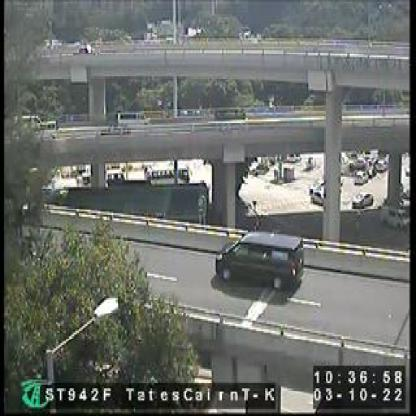Car: (214, 232, 300, 288)
